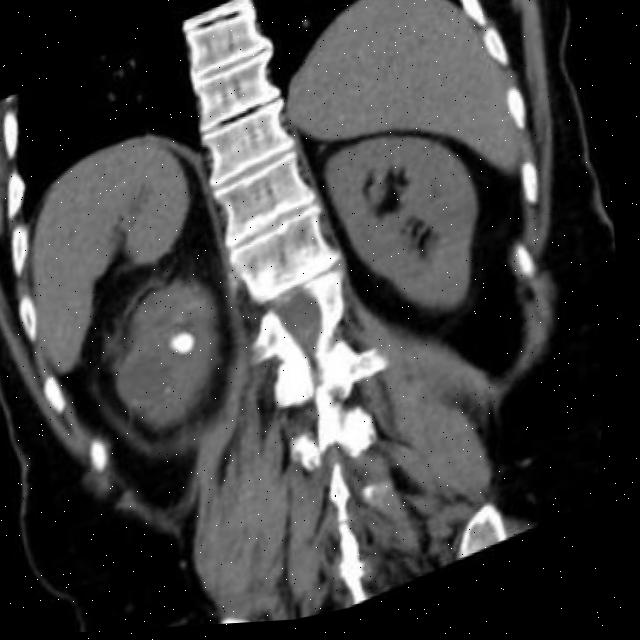Tas_Var: (166, 322, 209, 367)
